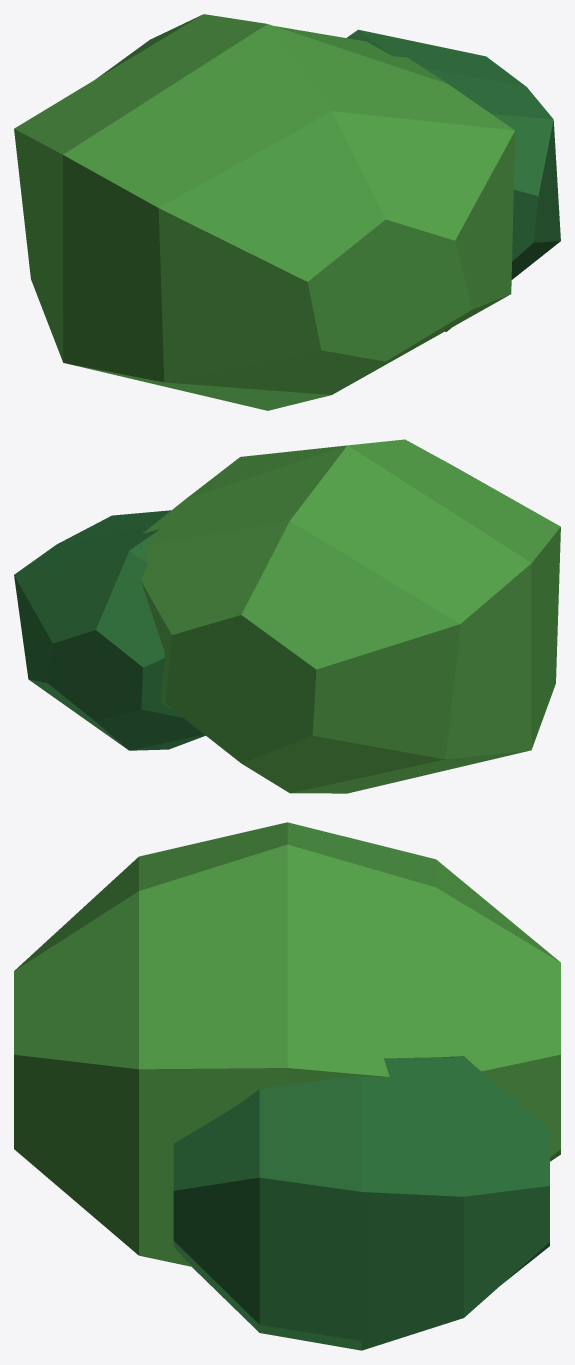
The model's file is nat_bush.glb.
3 renders of one model, top to bottom at view 1: azimuth 30°, elevation 25°; view 2: azimuth 150°, elevation 25°; view 3: azimuth 270°, elevation 25°, orthographic. The views are drawn at different scales.
Visible parts, largest first — view 1: nat_bush__mesh; view 2: nat_bush__mesh; view 3: nat_bush__mesh.
Boxes of the visible parts, bbox=[...] form: nat_bush__mesh: bbox=[14, 14, 560, 410]; nat_bush__mesh: bbox=[14, 439, 560, 793]; nat_bush__mesh: bbox=[14, 822, 560, 1350].
Bounding box in the file's own units: 1.8 × 1.33 × 1.47.
